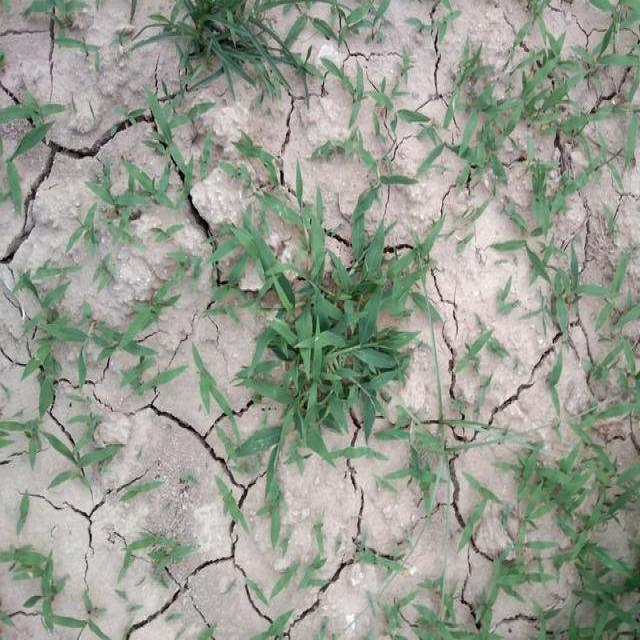weed: (220, 207, 438, 471), (424, 50, 614, 190), (510, 455, 640, 640), (7, 282, 91, 412), (502, 234, 590, 349), (162, 11, 290, 78), (136, 84, 202, 199), (9, 91, 57, 202)
